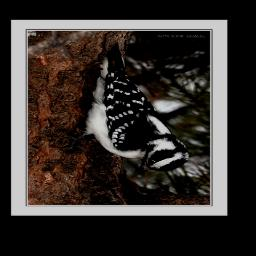Woodpecker: (65, 38, 190, 172)
